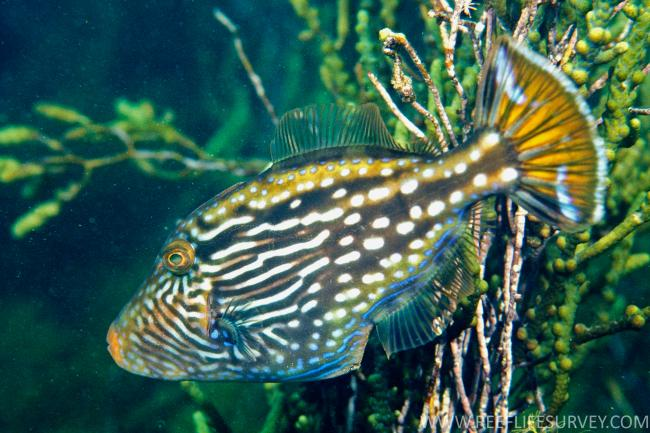fish: (106, 32, 606, 382)
